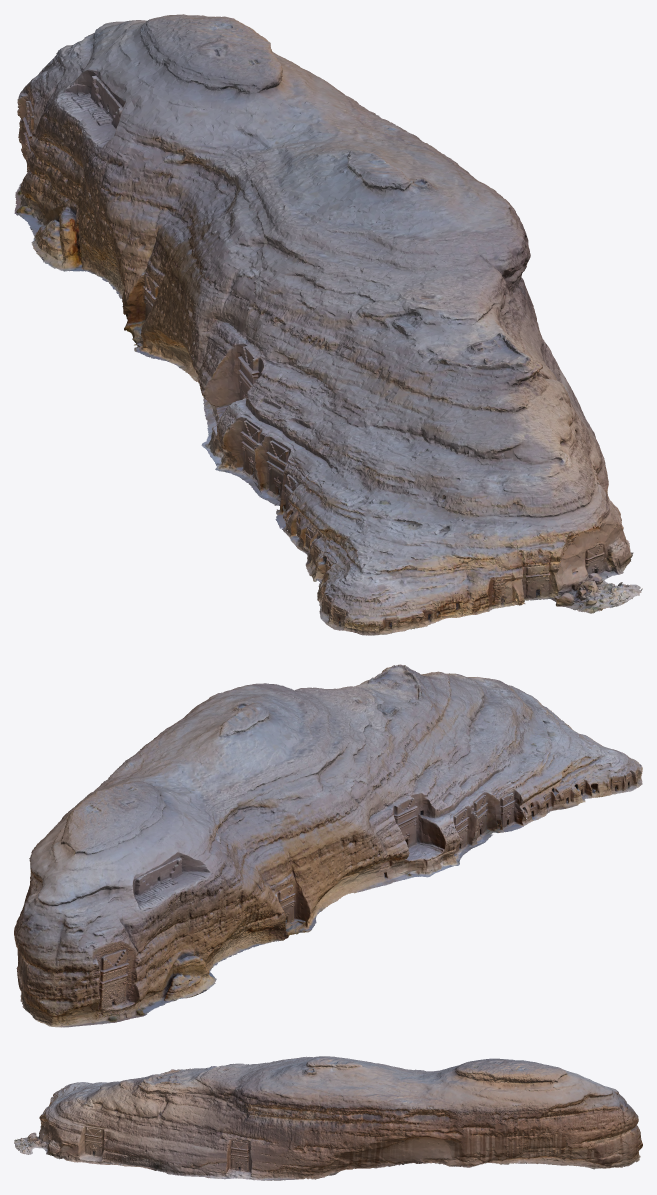
3 renders of one model, top to bottom at view 1: azimuth 30°, elevation 25°; view 2: azimuth 150°, elevation 25°; view 3: azimuth 270°, elevation 25°, orthographic. The views are drawn at different scales.
Visible parts, largest first — view 1: diwan_mesh500k; view 2: diwan_mesh500k; view 3: diwan_mesh500k.
Part boxes in pixels (x1,y1,x2,y2): diwan_mesh500k: (14,14,642,635); diwan_mesh500k: (14,664,642,1027); diwan_mesh500k: (14,1056,642,1180).
Size of the model in its own units: 111 by 55.55 by 288.
Materials: 1 (1 with a texture image).
